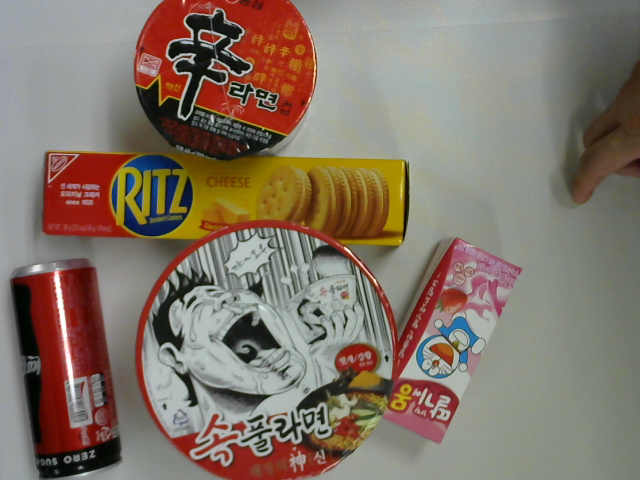Coca_Cola_Zero_Can_250ml: (10, 258, 124, 480)
Hejangpul: (131, 219, 401, 480)
Ritz_Sand_Cracker: (35, 148, 412, 242)
Sinramen_small: (131, 1, 318, 164)
Strawberry_E_Mong: (372, 237, 523, 447)
